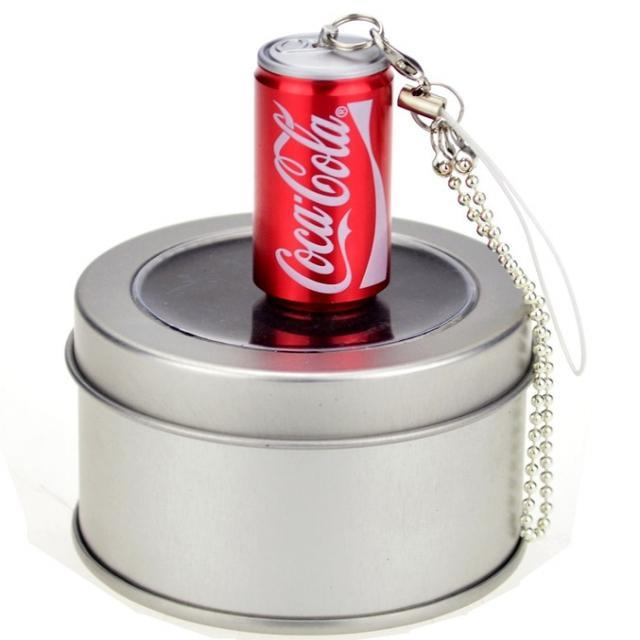coca-cola: (252, 14, 392, 304)
